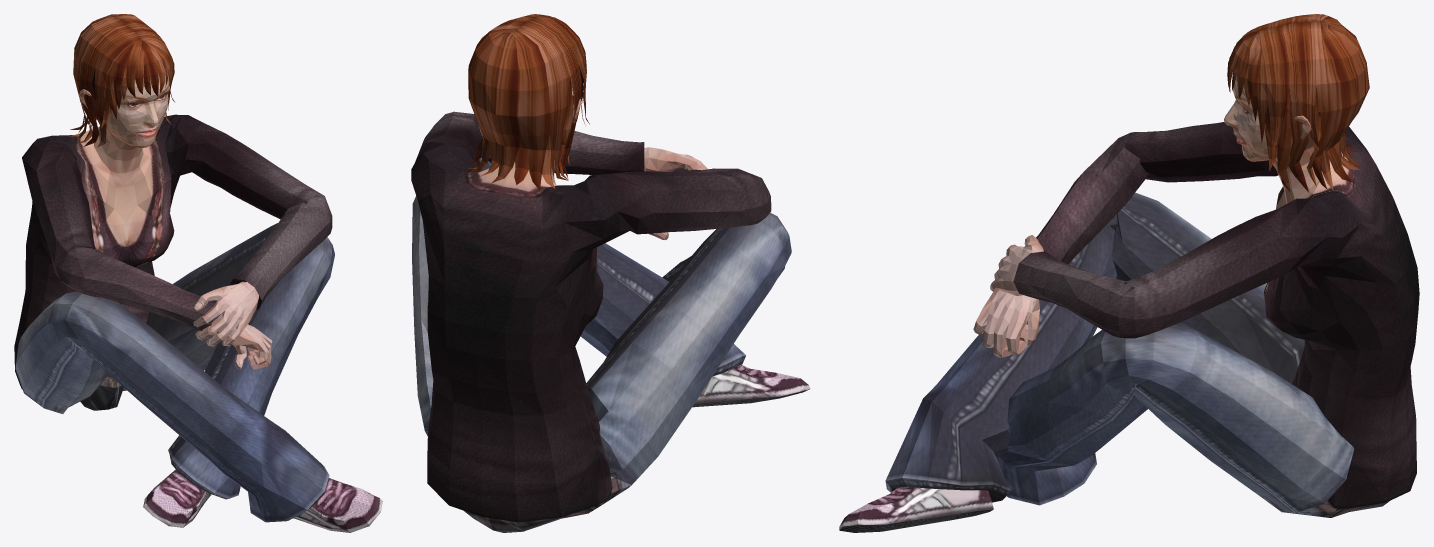
Rendered from sweethome3d-reallusion-sitting-female-14.glb.
The picture shows the model from 3 angles, left to right: view 1: azimuth 30°, elevation 25°; view 2: azimuth 150°, elevation 25°; view 3: azimuth 270°, elevation 25°; orthographic projection. The views are drawn at different scales.
Parts seen in each view (by area): view 1: obj1221polySurface1161; view 2: obj1221polySurface1161; view 3: obj1221polySurface1161.
Boxes of the visible parts, x1,y1,x2,y2 form: obj1221polySurface1161: (14,14,382,532); obj1221polySurface1161: (411,14,810,532); obj1221polySurface1161: (839,14,1419,532).
Bounding box in the file's own units: 56.2 × 75.77 × 81.68.
Materials: 3 (3 with a texture image).
